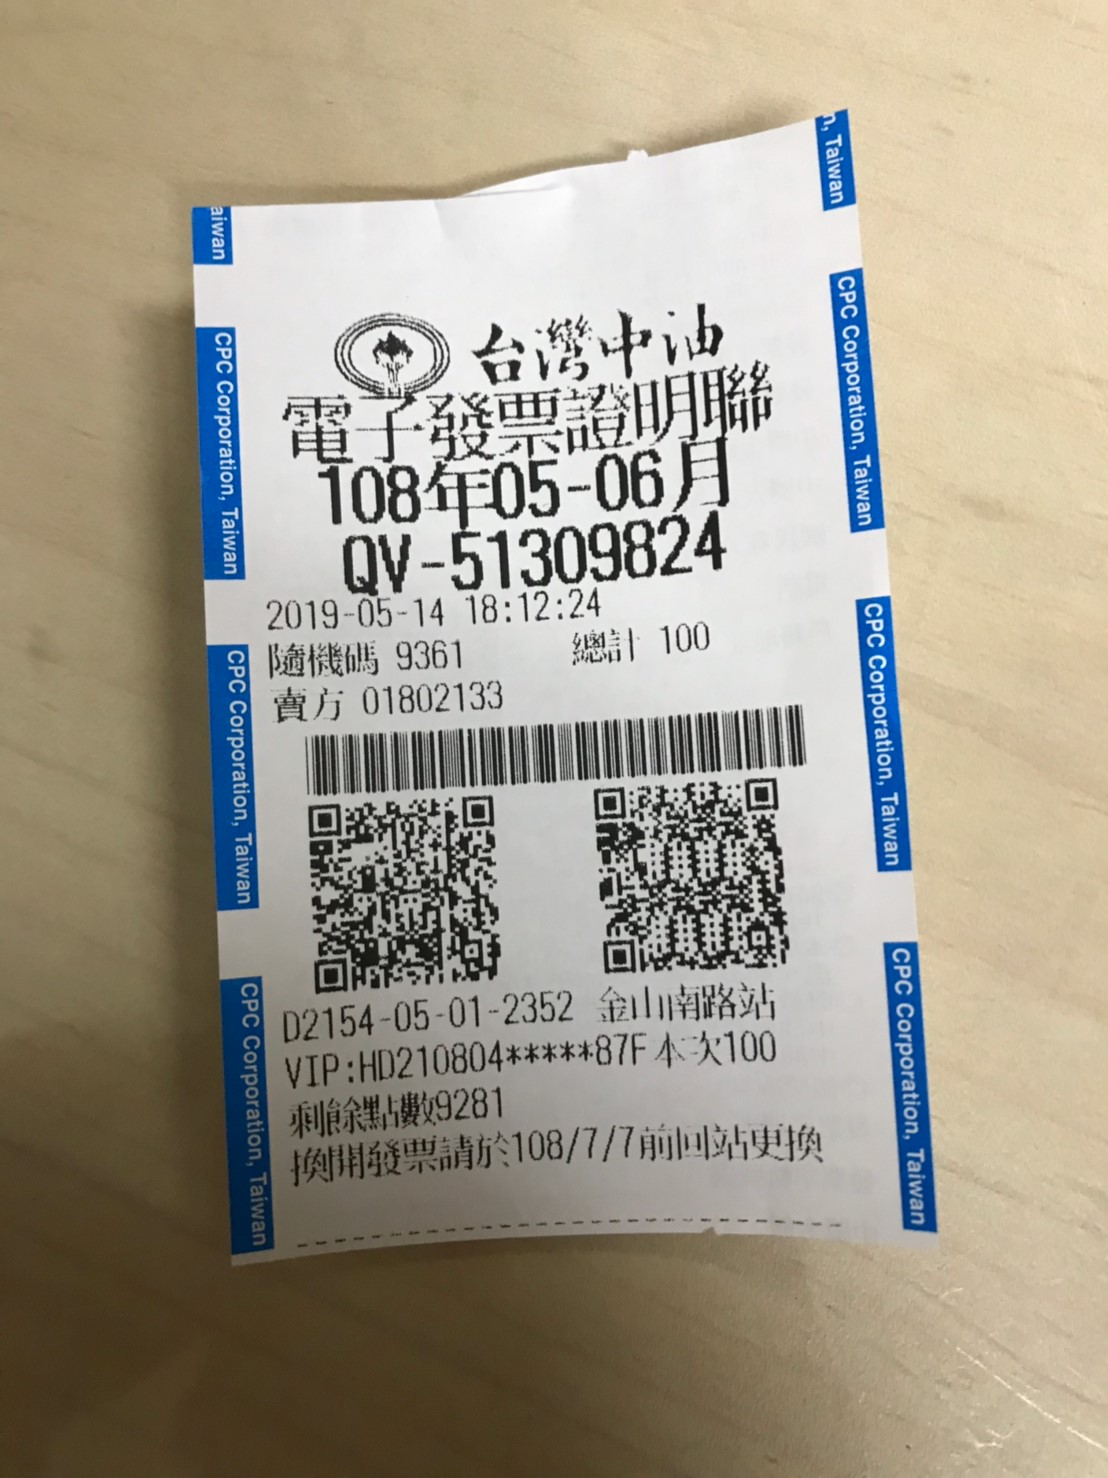Date_New: (312, 434, 731, 532)
Number_New: (446, 510, 731, 591)
